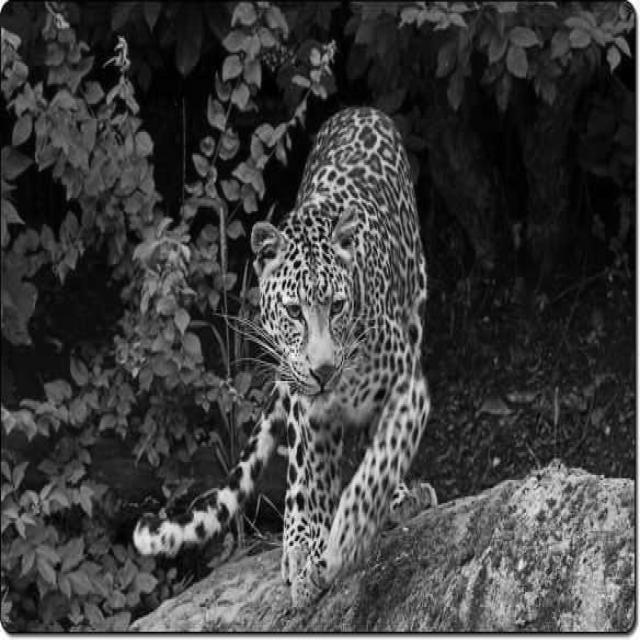Leopard: (173, 115, 462, 544)
